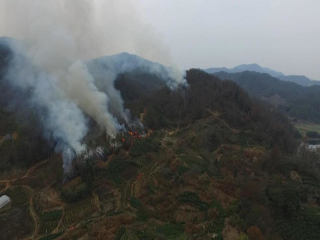smoke: (6, 10, 189, 177)
